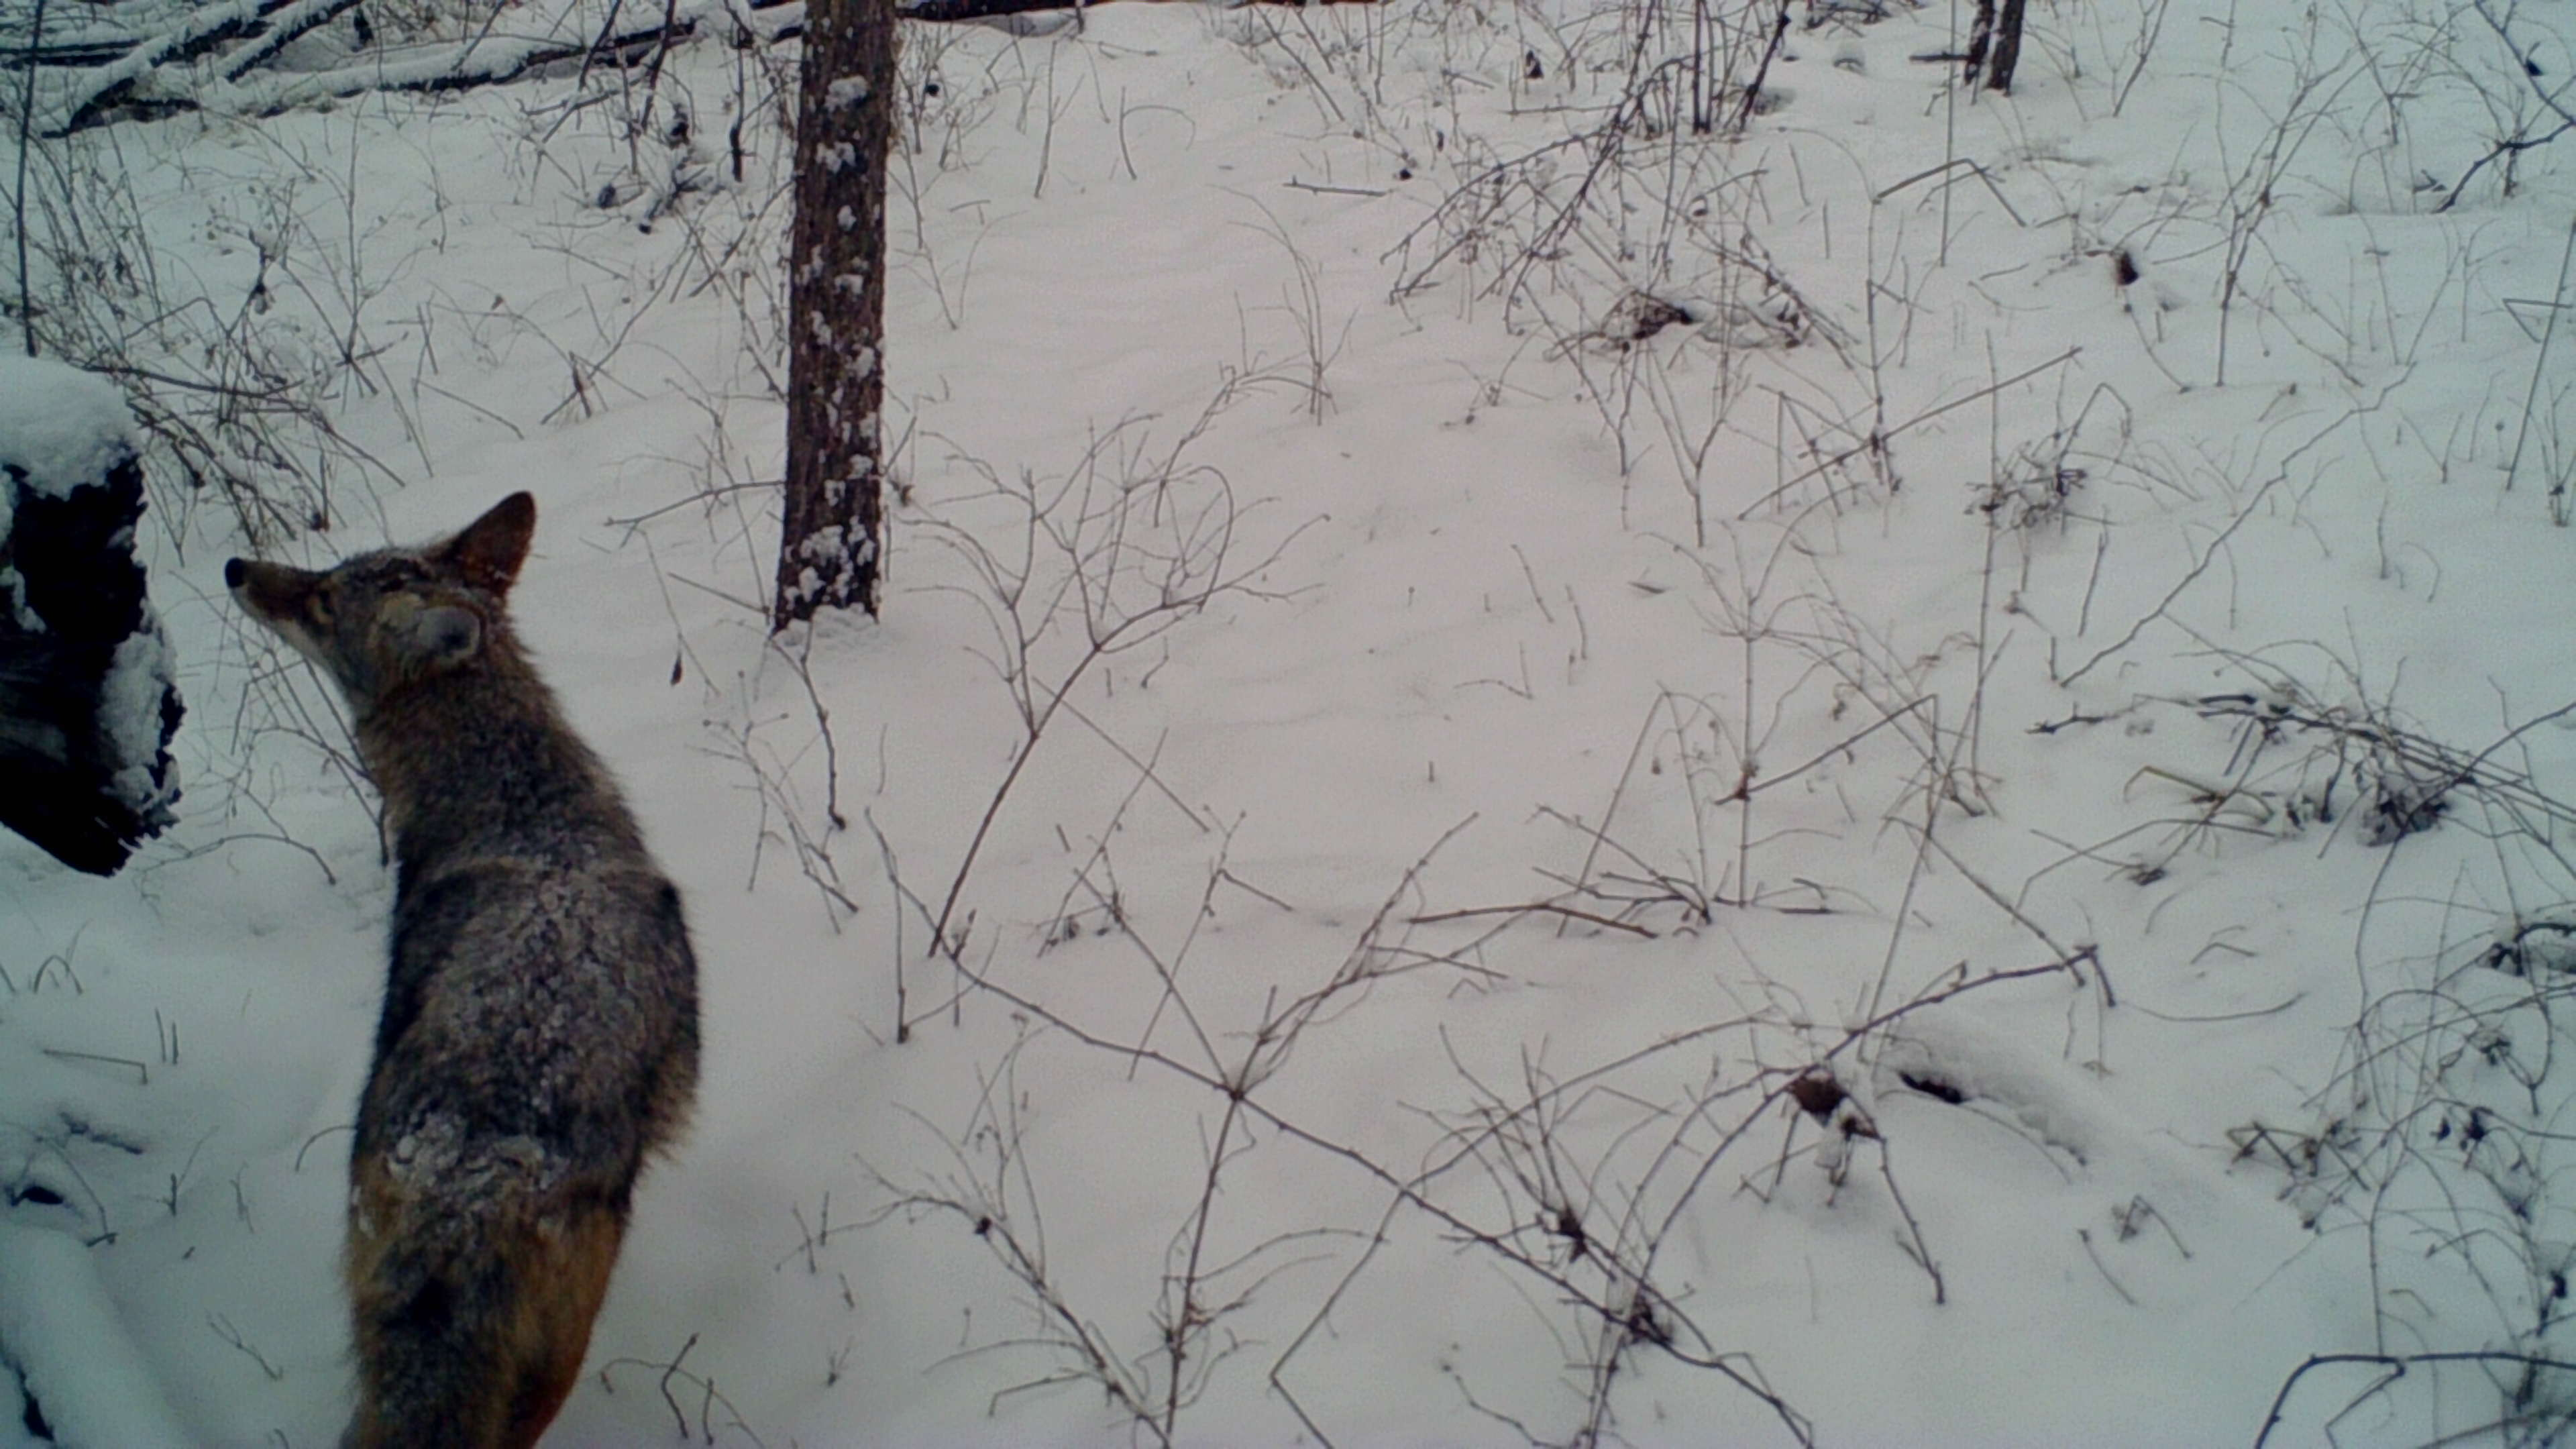Coyote: (219, 483, 708, 1447)
